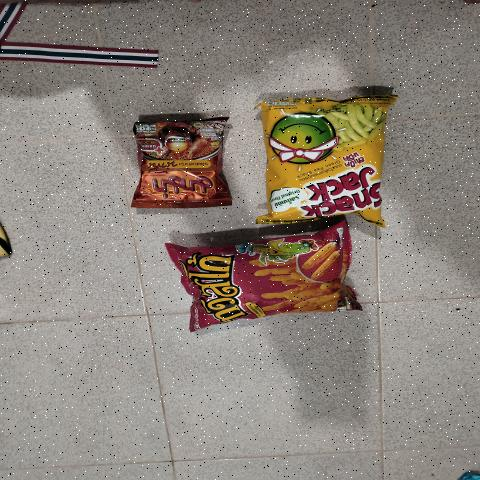mama: (138, 120, 218, 196)
snack_jack: (269, 109, 379, 212)
twisco: (196, 248, 346, 311)
